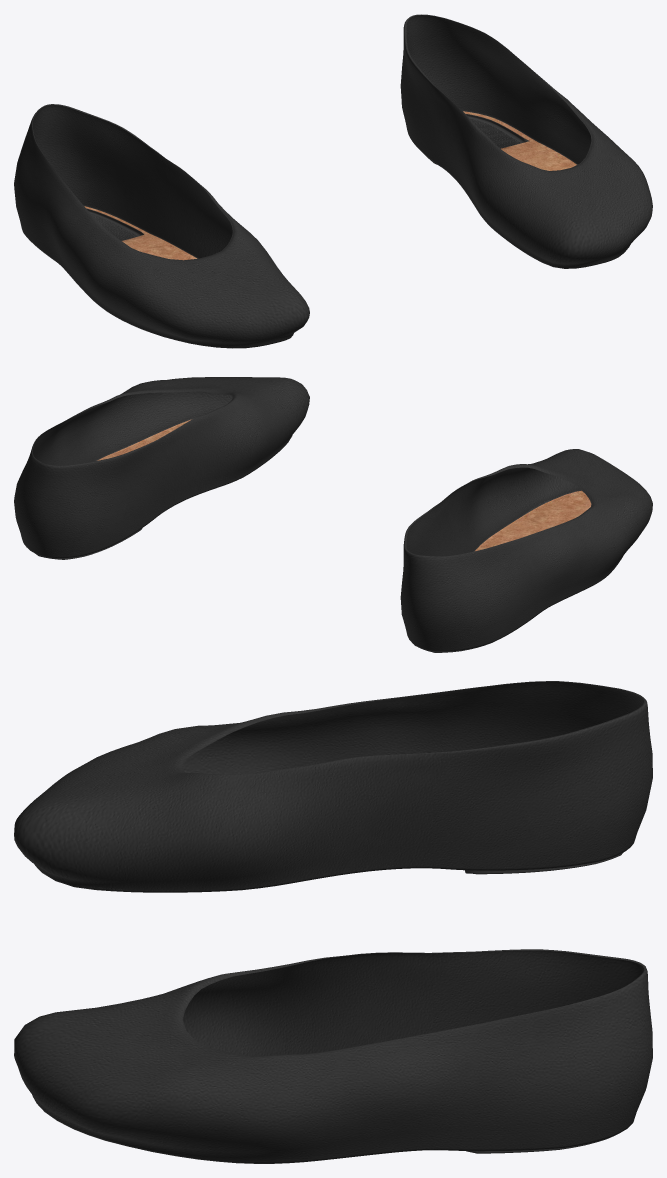
Rendered from shoes_flats.gltf.
The picture shows the model from 3 angles, top to bottom: view 1: azimuth 30°, elevation 25°; view 2: azimuth 150°, elevation 25°; view 3: azimuth 270°, elevation 25°; orthographic projection. The views are drawn at different scales.
Parts seen in each view (by area): view 1: shoes_flats; view 2: shoes_flats; view 3: shoes_flats.
Boxes of the visible parts, <box> form: shoes_flats: <box>14,14,652,348</box>; shoes_flats: <box>14,377,652,652</box>; shoes_flats: <box>14,681,652,1163</box>.
Bounding box in the file's own units: 0.3158 × 0.0579 × 0.2237.
Materials: 1 (1 with a texture image).
